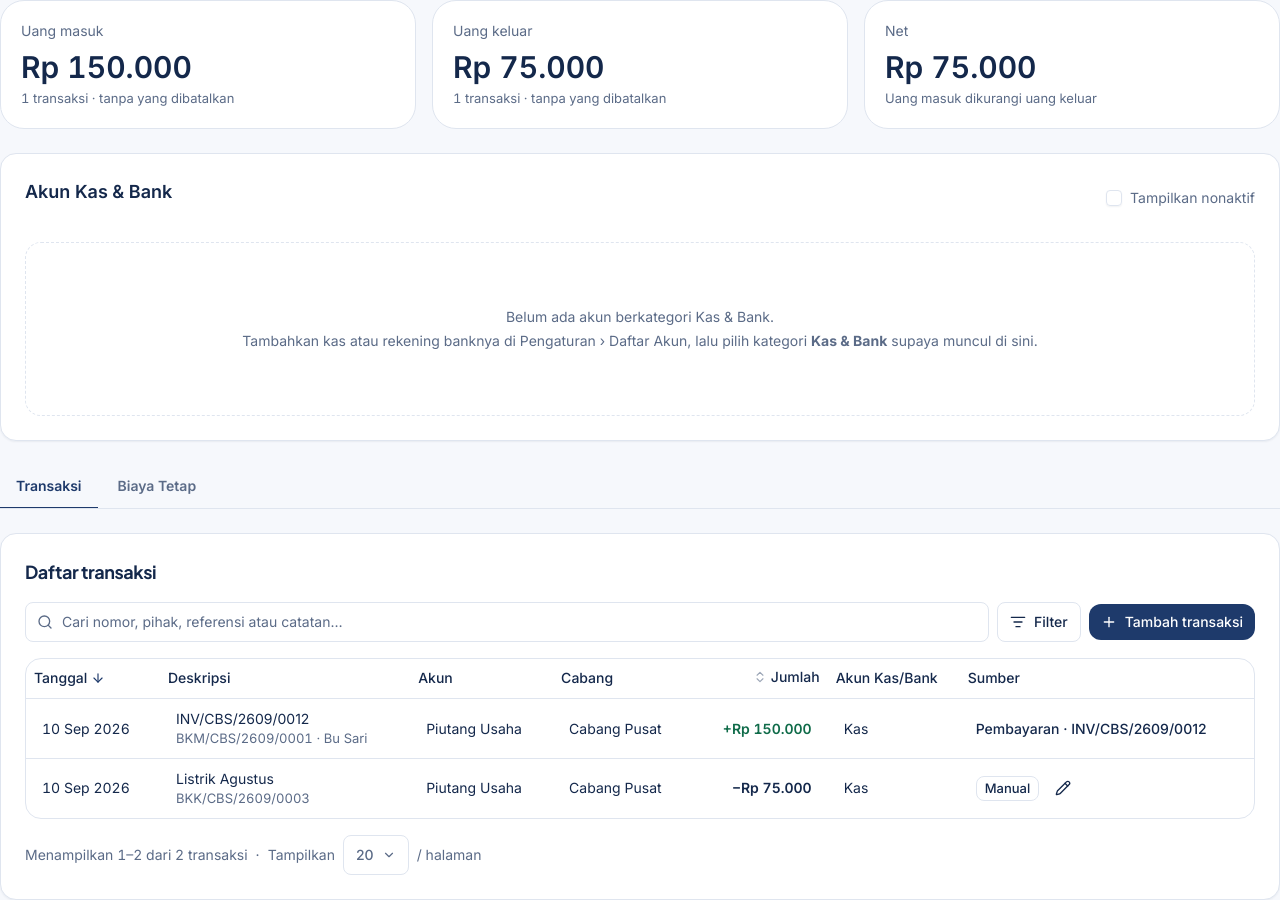
Scenario: Kas & Bank — transaksi: rows and totals › offers the size it started on, even though the list does not name it
(page scrolled)
Expected: the link "BKM/CBS/2609/0001" is shown, [176,730,313,746]
Step 1. Click the button named "Baris per halaman" → (376, 855), box [343,835,409,875]
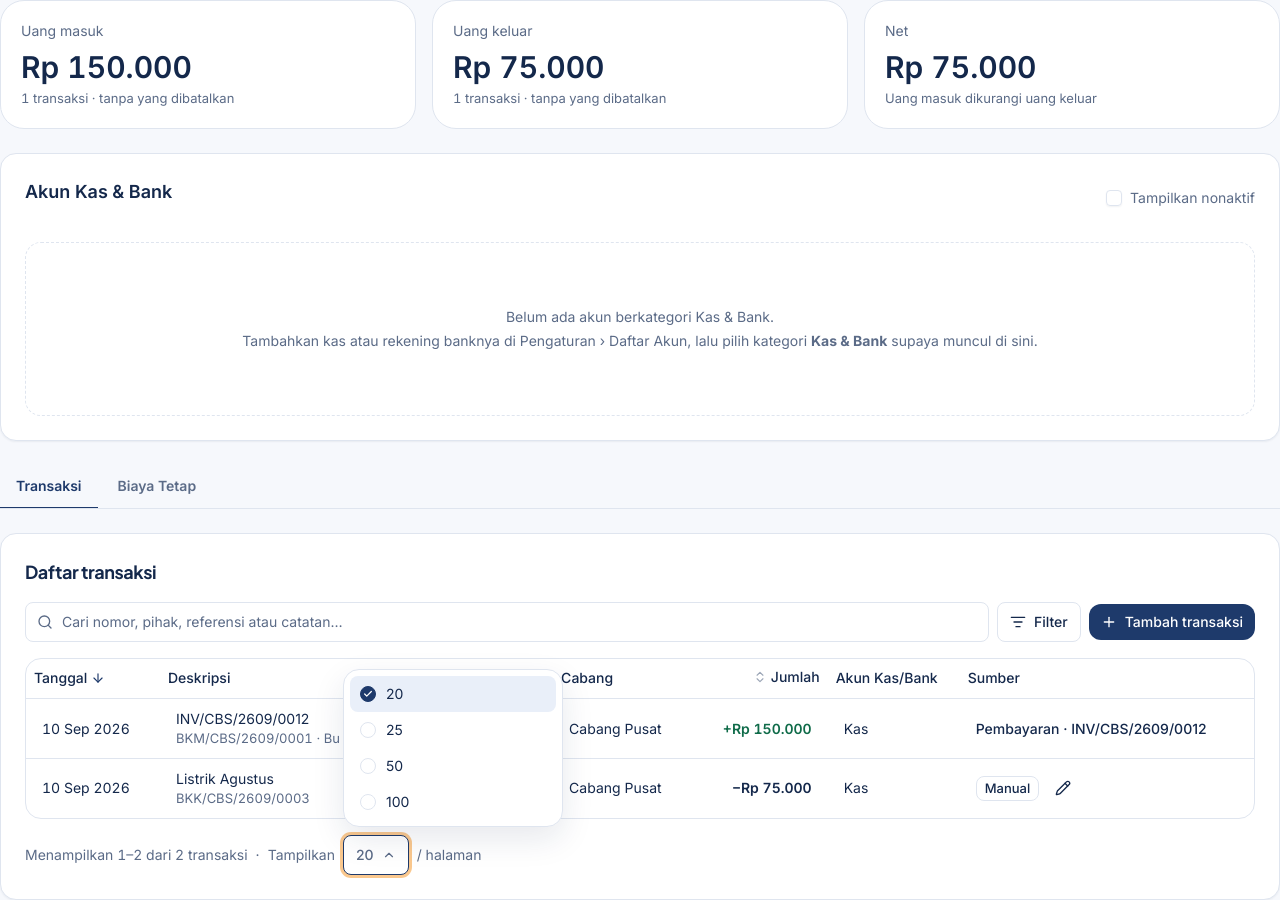
Now the option "20" is shown, box [350,676,556,712]
